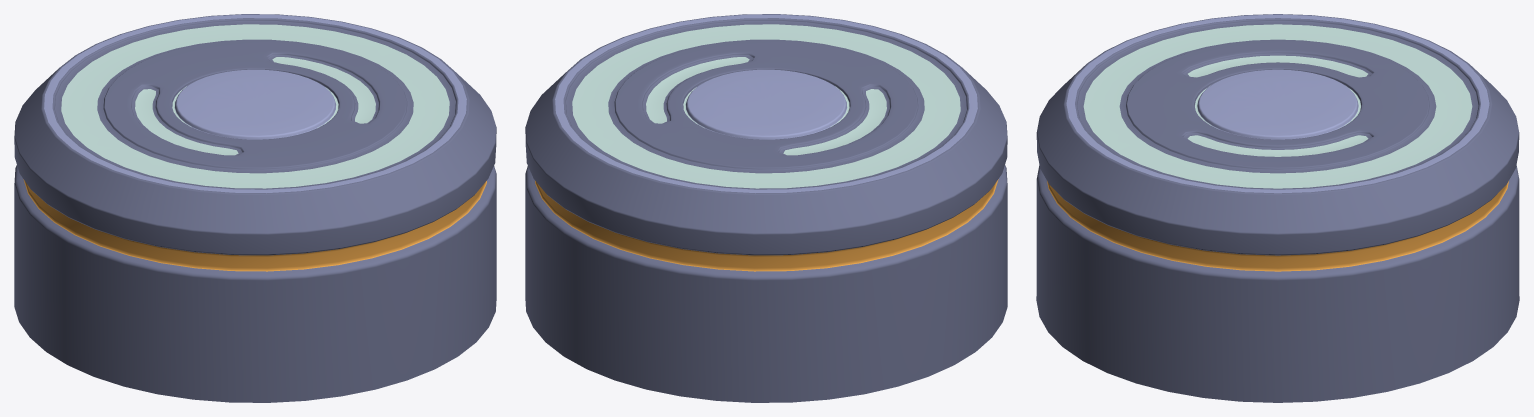
File: Ground_For_shop.fbx
The picture shows the model from 3 angles, left to right: view 1: azimuth 30°, elevation 25°; view 2: azimuth 150°, elevation 25°; view 3: azimuth 270°, elevation 25°; orthographic projection.
Visible parts, largest first — view 1: Ground_For_shop; view 2: Ground_For_shop; view 3: Ground_For_shop.
Part boxes in pixels (x1=…): Ground_For_shop: x1=14, y1=14, x2=496, y2=402; Ground_For_shop: x1=525, y1=14, x2=1007, y2=402; Ground_For_shop: x1=1036, y1=14, x2=1519, y2=402.
Bounding box in the file's own units: 31.06 × 14.11 × 31.06.
